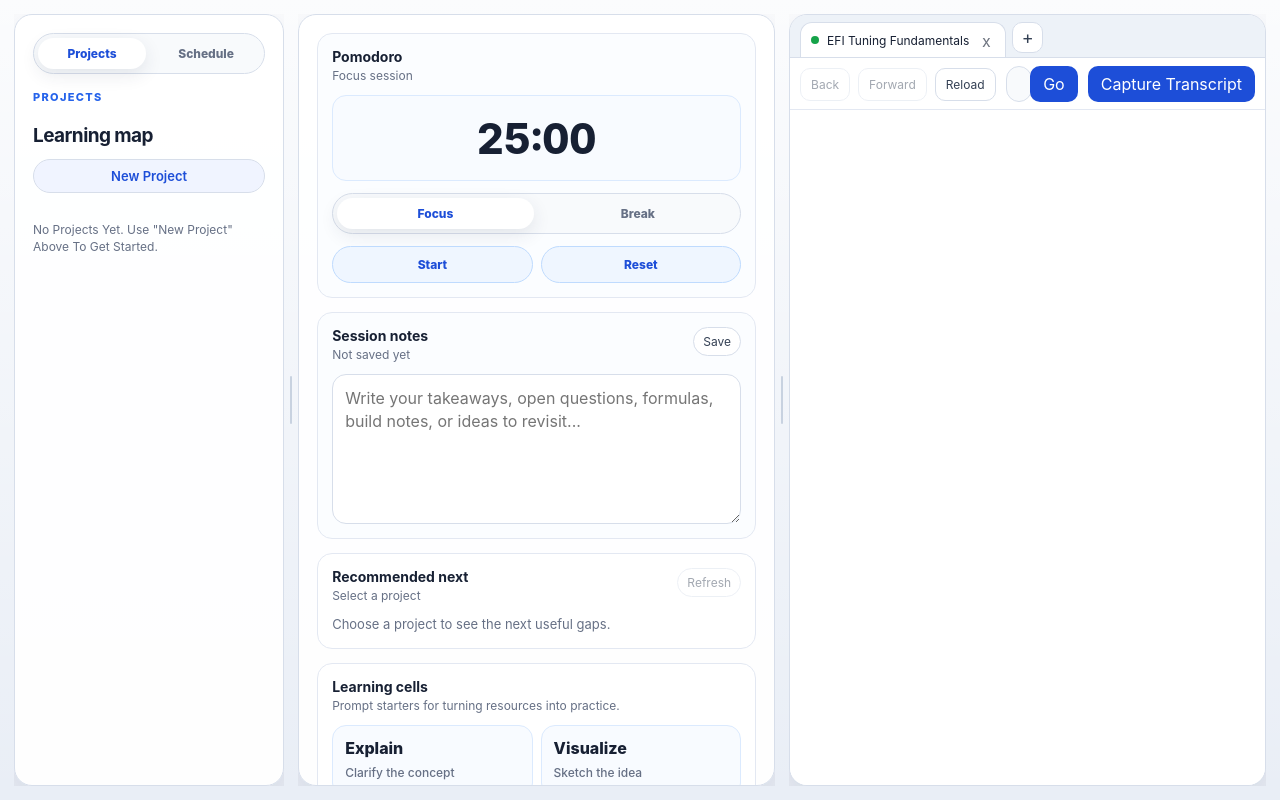
Test: App › shows transcript capture controls on HPAcademy video pages
Click the button "Capture Transcript" at x=1171, y=84, box [1088, 66, 1255, 102]
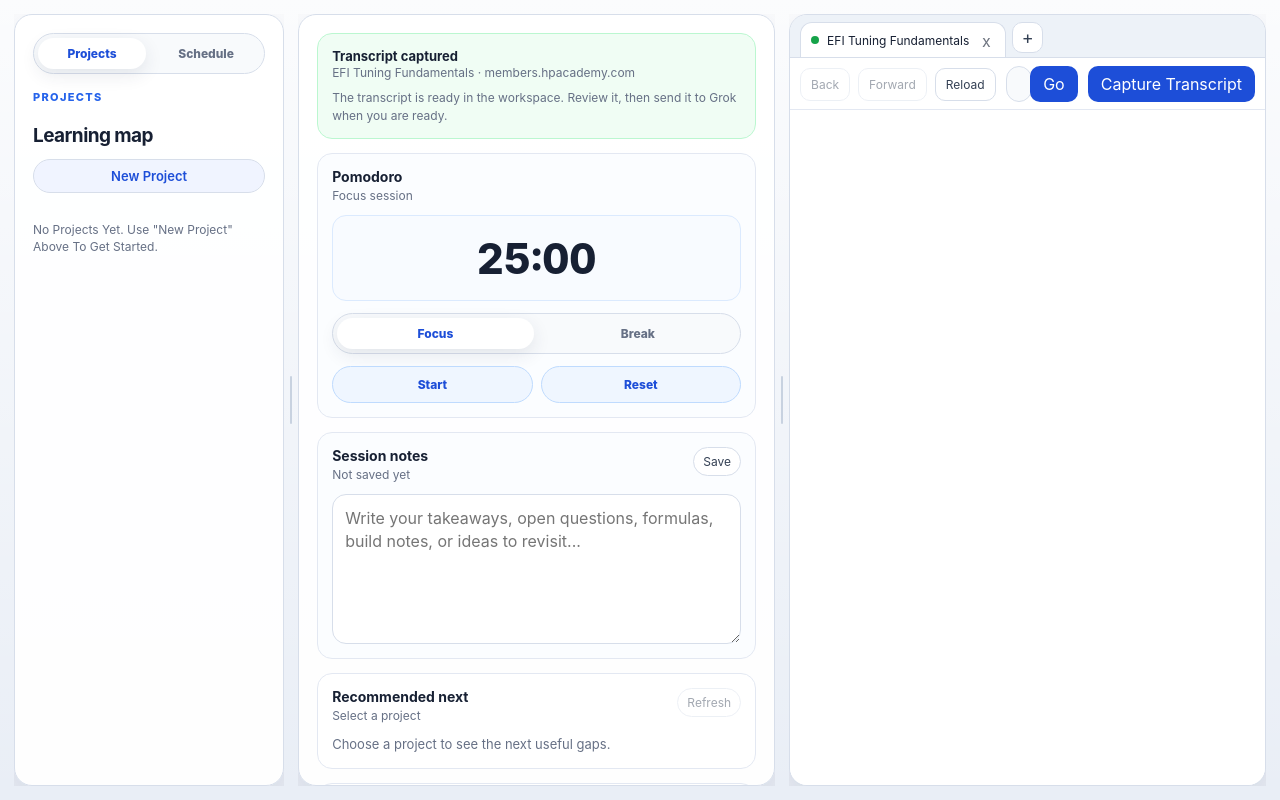
Check: the text "Transcript captured" is shown, box [332, 48, 458, 64]
Check: the text "EFI Tuning Fundamentals · members.hpacademy.com" is shown, box [332, 65, 635, 80]
